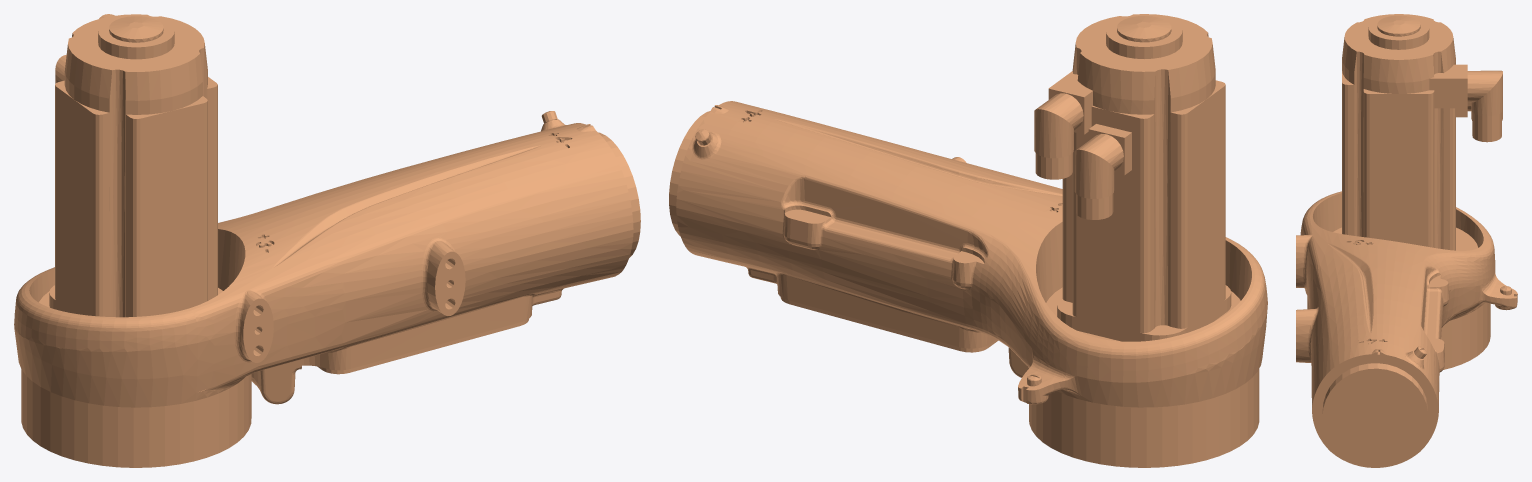
The picture shows the model from 3 angles, left to right: view 1: azimuth 30°, elevation 25°; view 2: azimuth 150°, elevation 25°; view 3: azimuth 270°, elevation 25°; orthographic projection. The views are drawn at different scales.
Visible parts, largest first — view 1: /Link_3/Link_3-mesh/0; view 2: /Link_3/Link_3-mesh/0; view 3: /Link_3/Link_3-mesh/0.
Boxes of the visible parts, x1,y1,x2,y2 form: /Link_3/Link_3-mesh/0: (14,14,640,467); /Link_3/Link_3-mesh/0: (669,14,1267,467); /Link_3/Link_3-mesh/0: (1296,14,1517,467).
Bounding box in the file's own units: 0.4403 × 0.305 × 0.1887.
